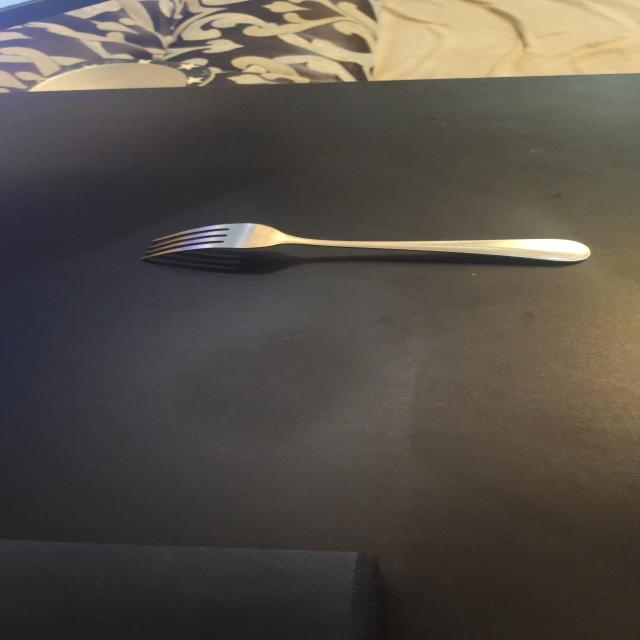plastic utensil: (142, 224, 589, 262)
